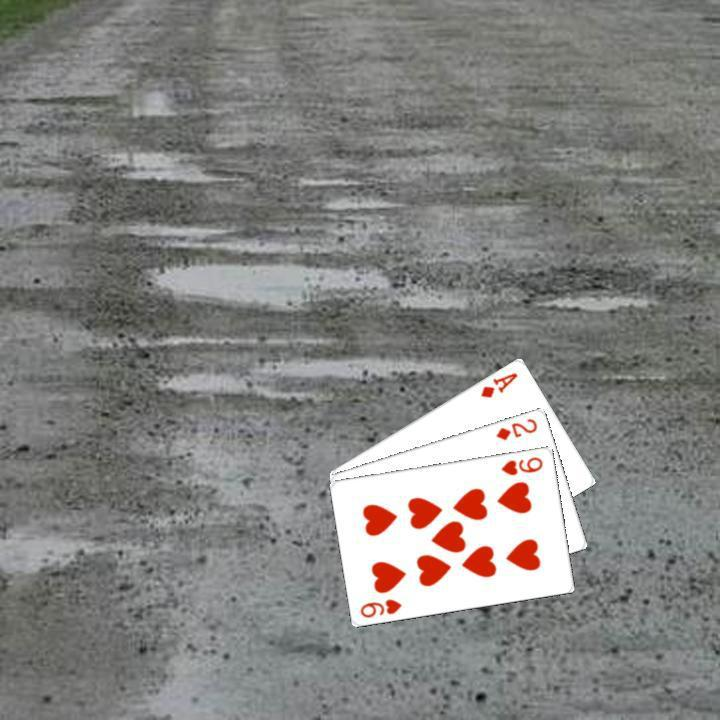2: (492, 414, 539, 442)
9: (497, 452, 545, 477), (356, 594, 404, 619)
A: (476, 368, 520, 400)
